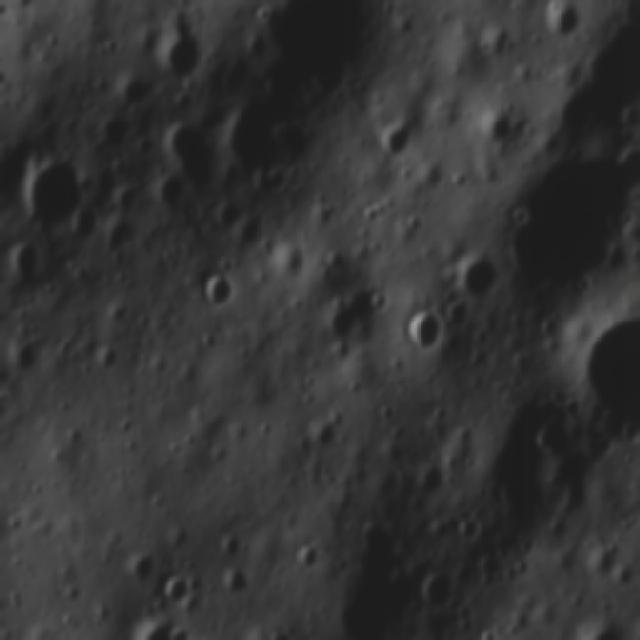crater: (566, 308, 640, 430), (22, 163, 83, 222), (452, 239, 501, 306), (158, 33, 210, 75), (398, 317, 450, 354), (414, 577, 458, 615), (577, 615, 640, 640), (298, 530, 325, 581), (200, 270, 232, 313), (156, 573, 190, 607), (382, 122, 413, 153), (548, 5, 577, 38)
